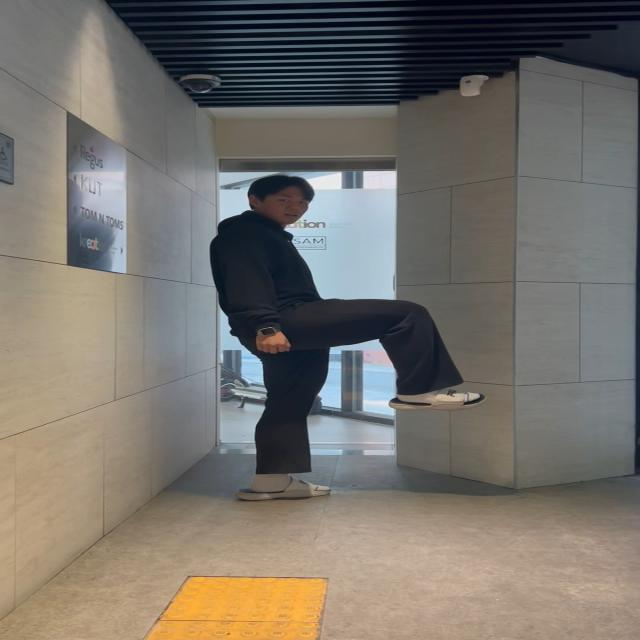knee: (290, 295, 481, 411)
